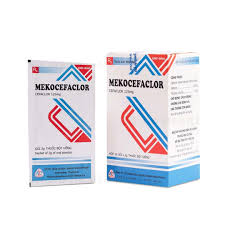Mekocefaclor: (108, 77, 167, 89), (35, 83, 91, 92)
